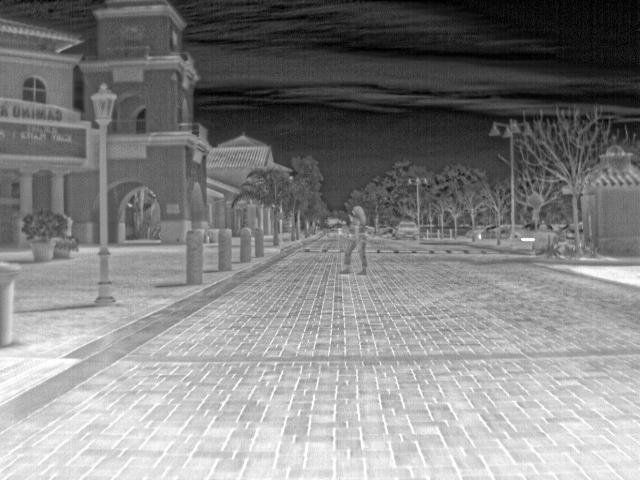car: (395, 220, 419, 239), (539, 220, 561, 239), (515, 221, 533, 238), (495, 222, 512, 239), (465, 223, 485, 237), (479, 223, 498, 237)
person: (343, 204, 370, 276)
